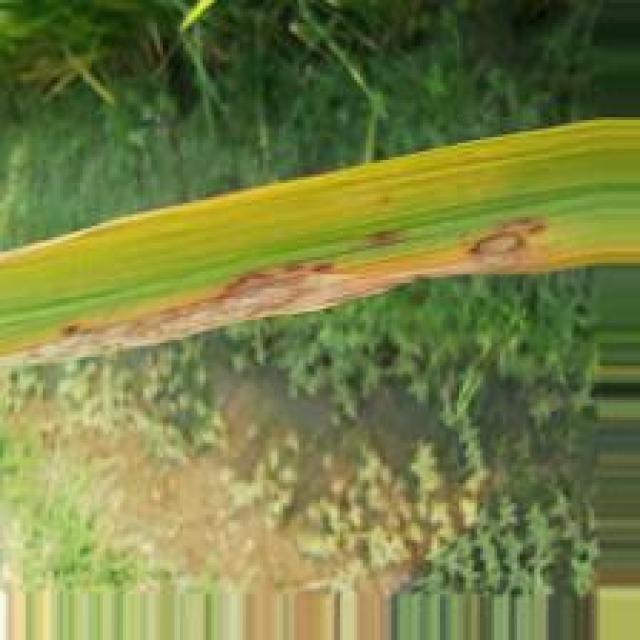Leaf_Blast: (0, 253, 425, 369), (459, 216, 544, 268)
